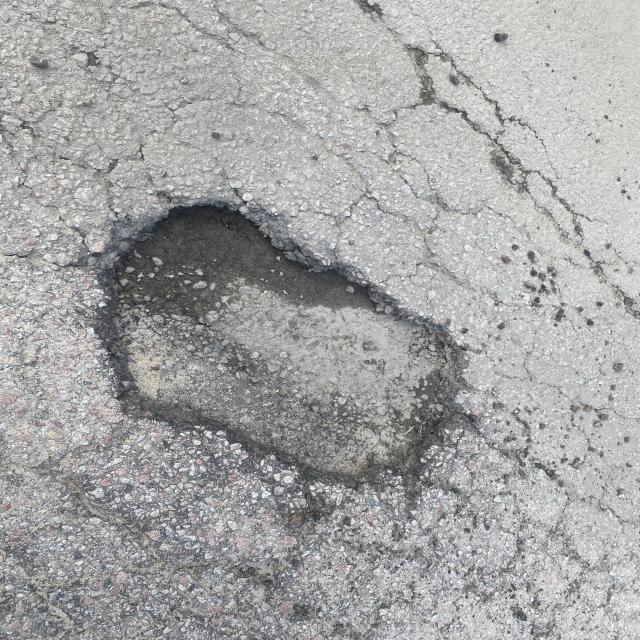Pothole: (57, 175, 530, 518)
